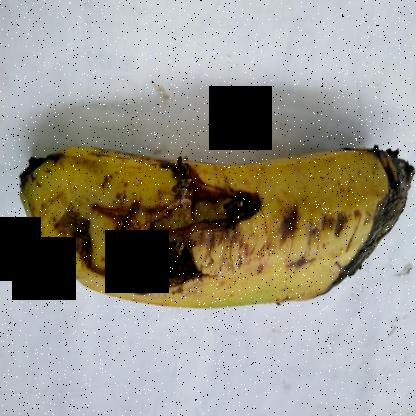rotten: (85, 140, 248, 302), (307, 119, 415, 319)
